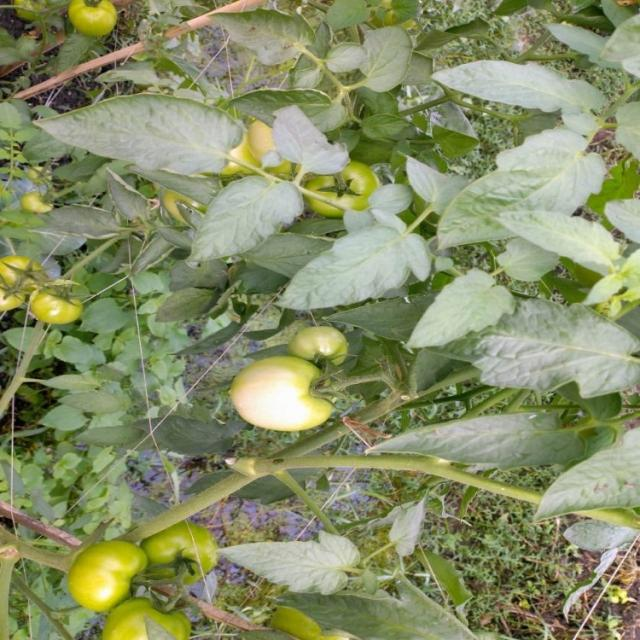tomato: (227, 350, 344, 448), (61, 538, 151, 617), (150, 522, 228, 591), (302, 160, 393, 219), (100, 599, 200, 640), (1, 233, 41, 308), (25, 280, 87, 323), (293, 323, 343, 365), (62, 1, 122, 35), (8, 1, 66, 31), (28, 179, 65, 222)
